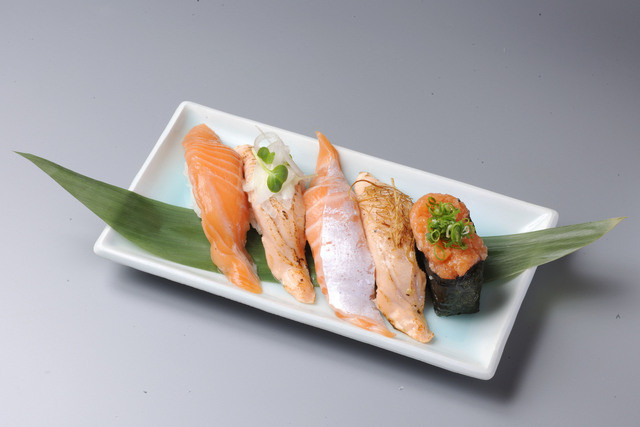salmon: (183, 124, 255, 280)
